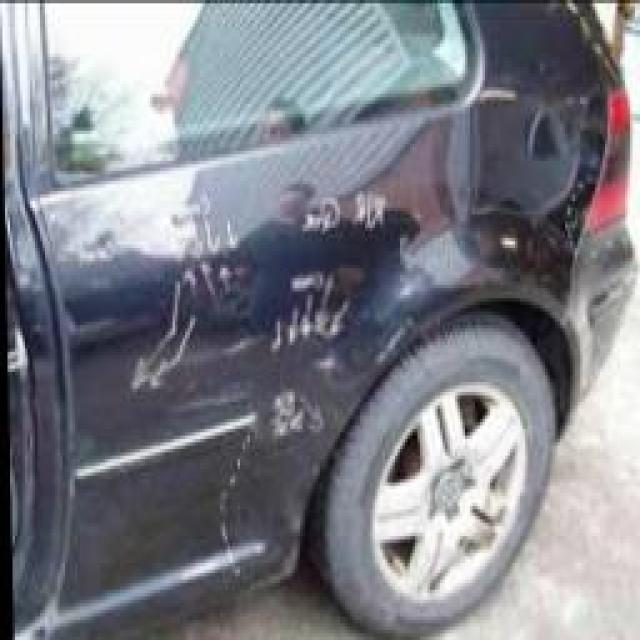Door: (105, 114, 506, 586)
